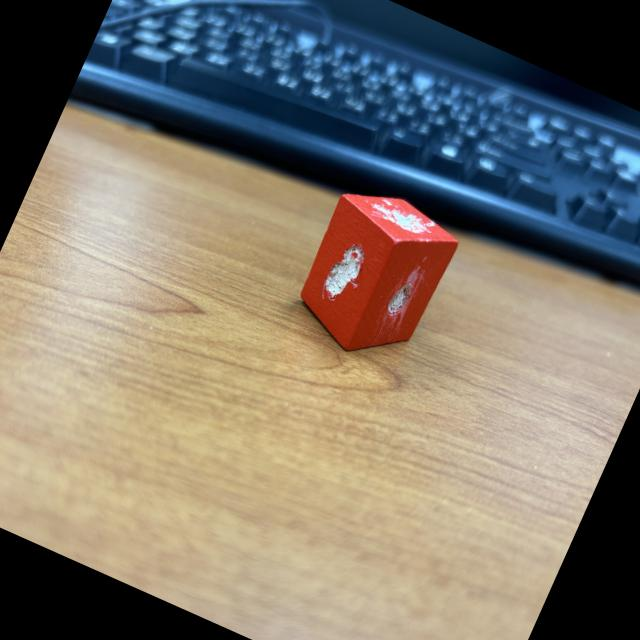broken: (284, 175, 466, 376)
